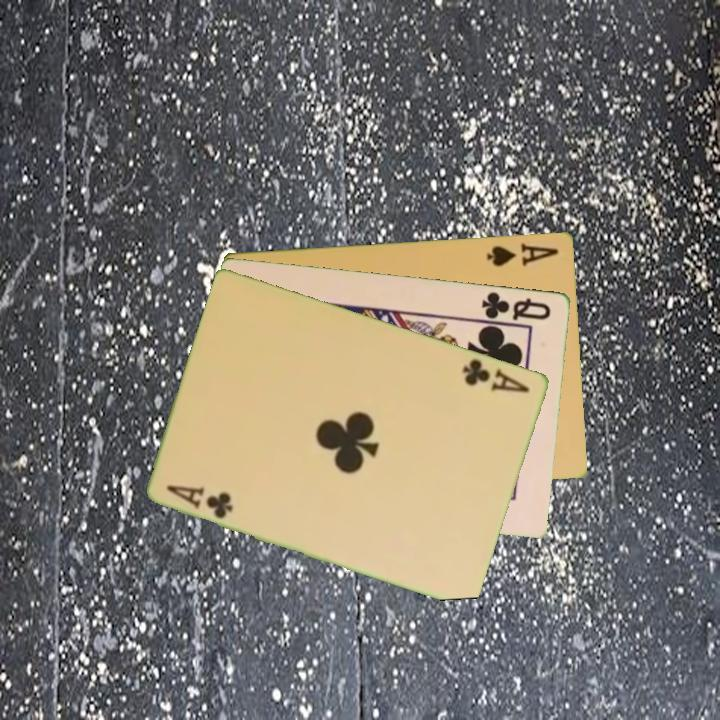Ac: (459, 355, 534, 396), (163, 481, 236, 522)
As: (484, 238, 562, 269)
Qc: (479, 287, 554, 323)
